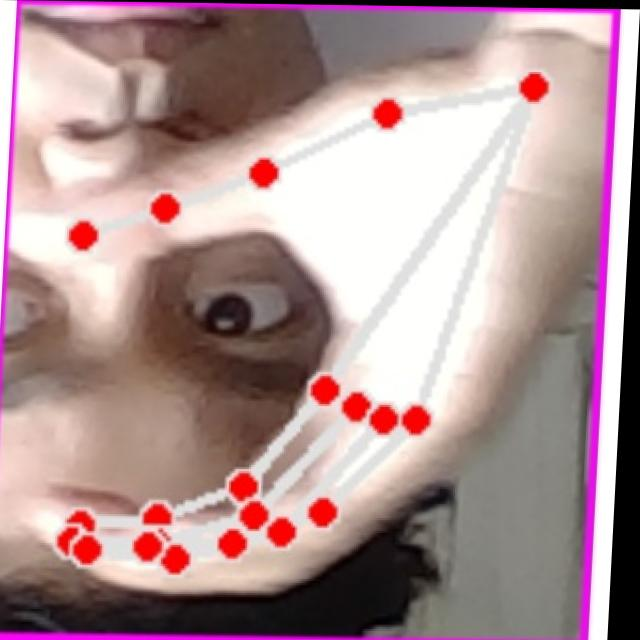C: (16, 28, 600, 612)
